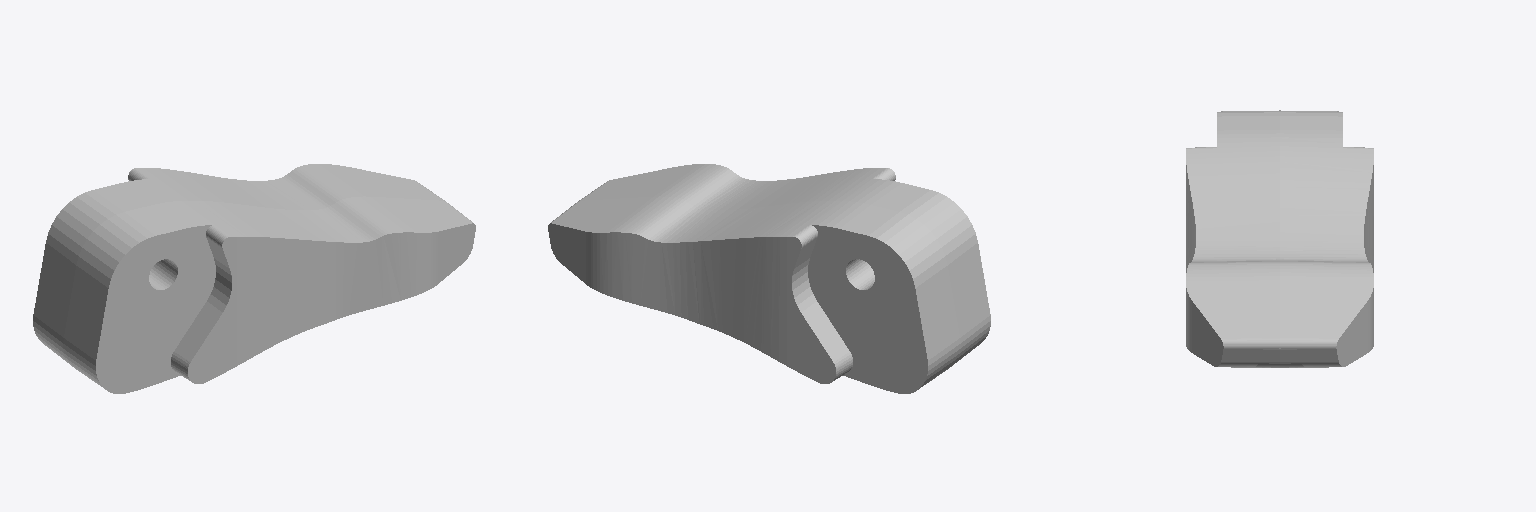
The model's file is processed_finger_distal.obj.
3 views of the same model, side by side, from view 1: azimuth 30°, elevation 25°; view 2: azimuth 150°, elevation 25°; view 3: azimuth 270°, elevation 25° (orthographic).
Parts seen in each view (by area): view 1: finger_distal; view 2: finger_distal; view 3: finger_distal.
Boxes of the visible parts, box(x1,y1,x2,y2) form: finger_distal: box(33, 164, 475, 393); finger_distal: box(548, 164, 990, 393); finger_distal: box(1186, 110, 1373, 367).
Bounding box in the file's own units: 0.0532 × 0.0201 × 0.0225.